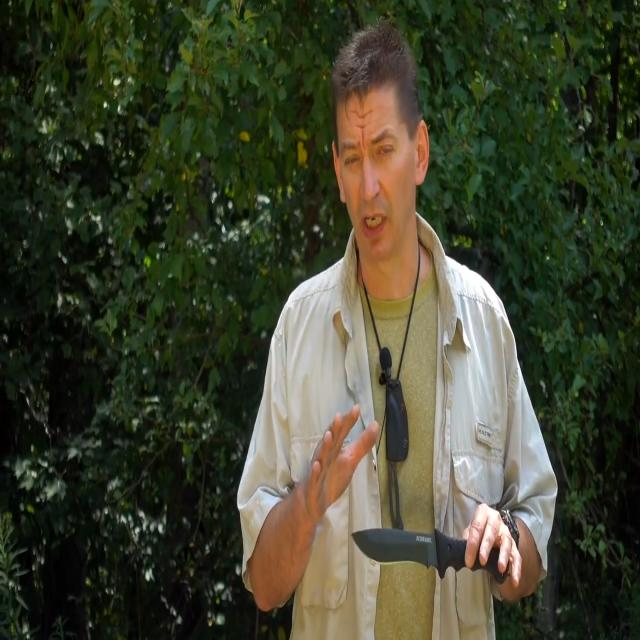knife: (353, 517, 511, 598)
